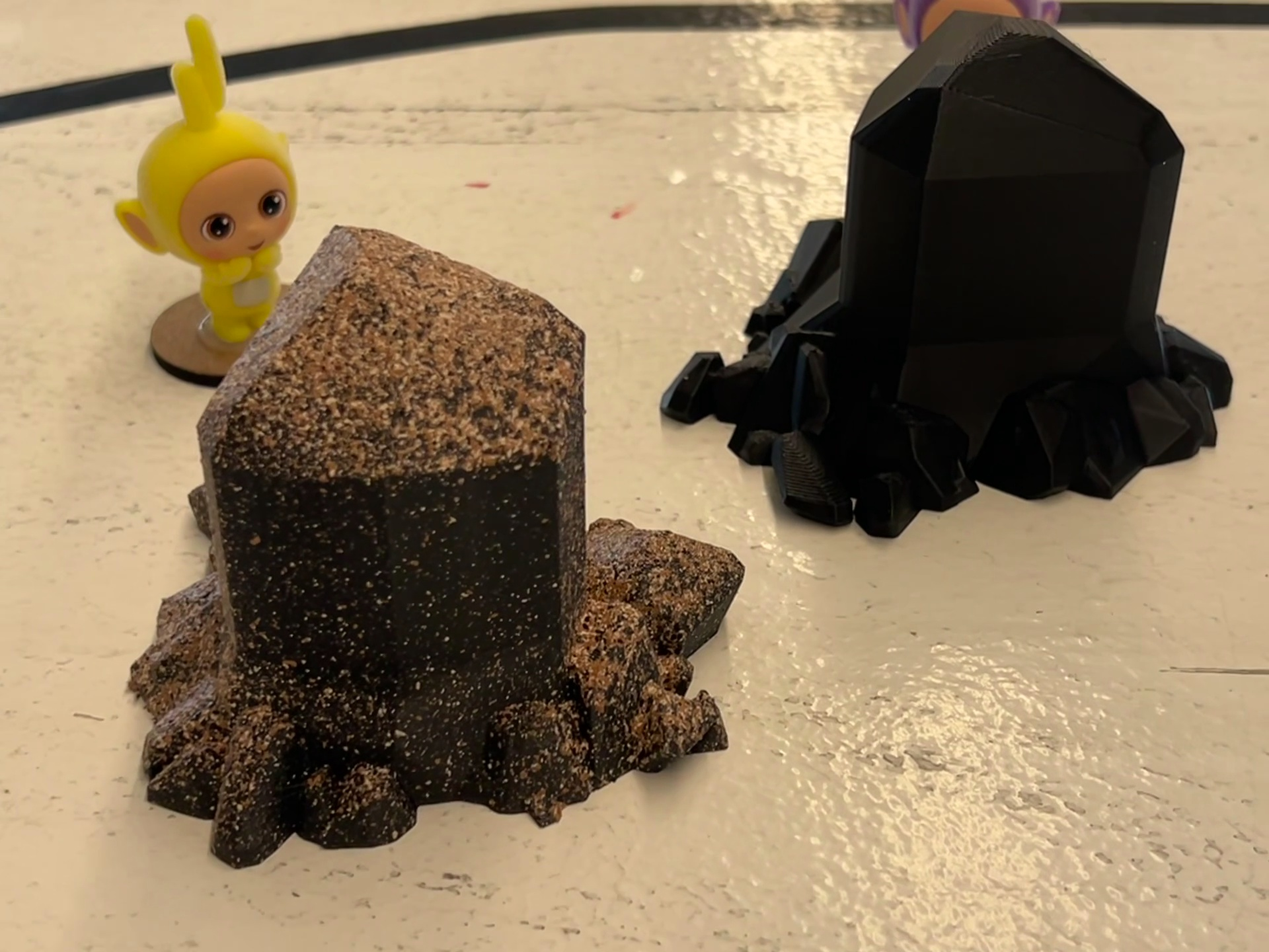teletubby: (116, 16, 297, 344), (894, 0, 1060, 48)
